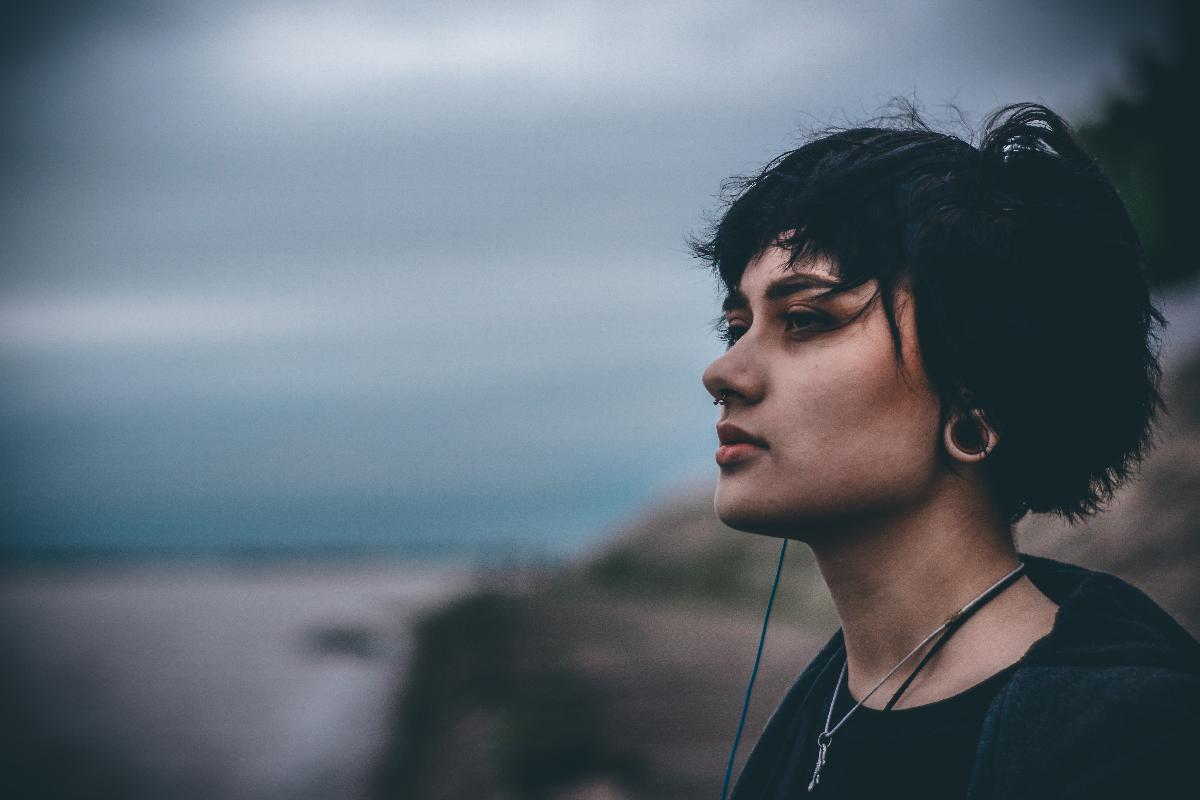Person: (701, 114, 1197, 800)
